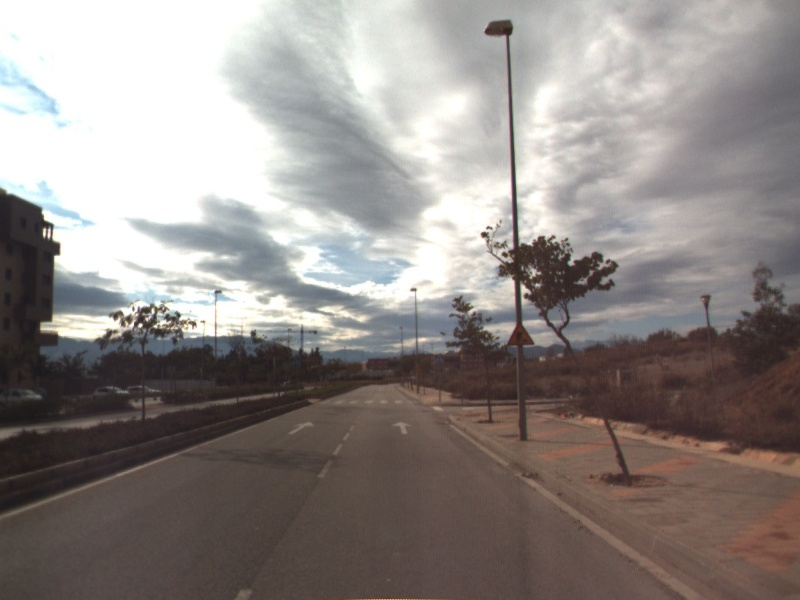STRAIGHT: (286, 419, 317, 436), (390, 419, 414, 436)
